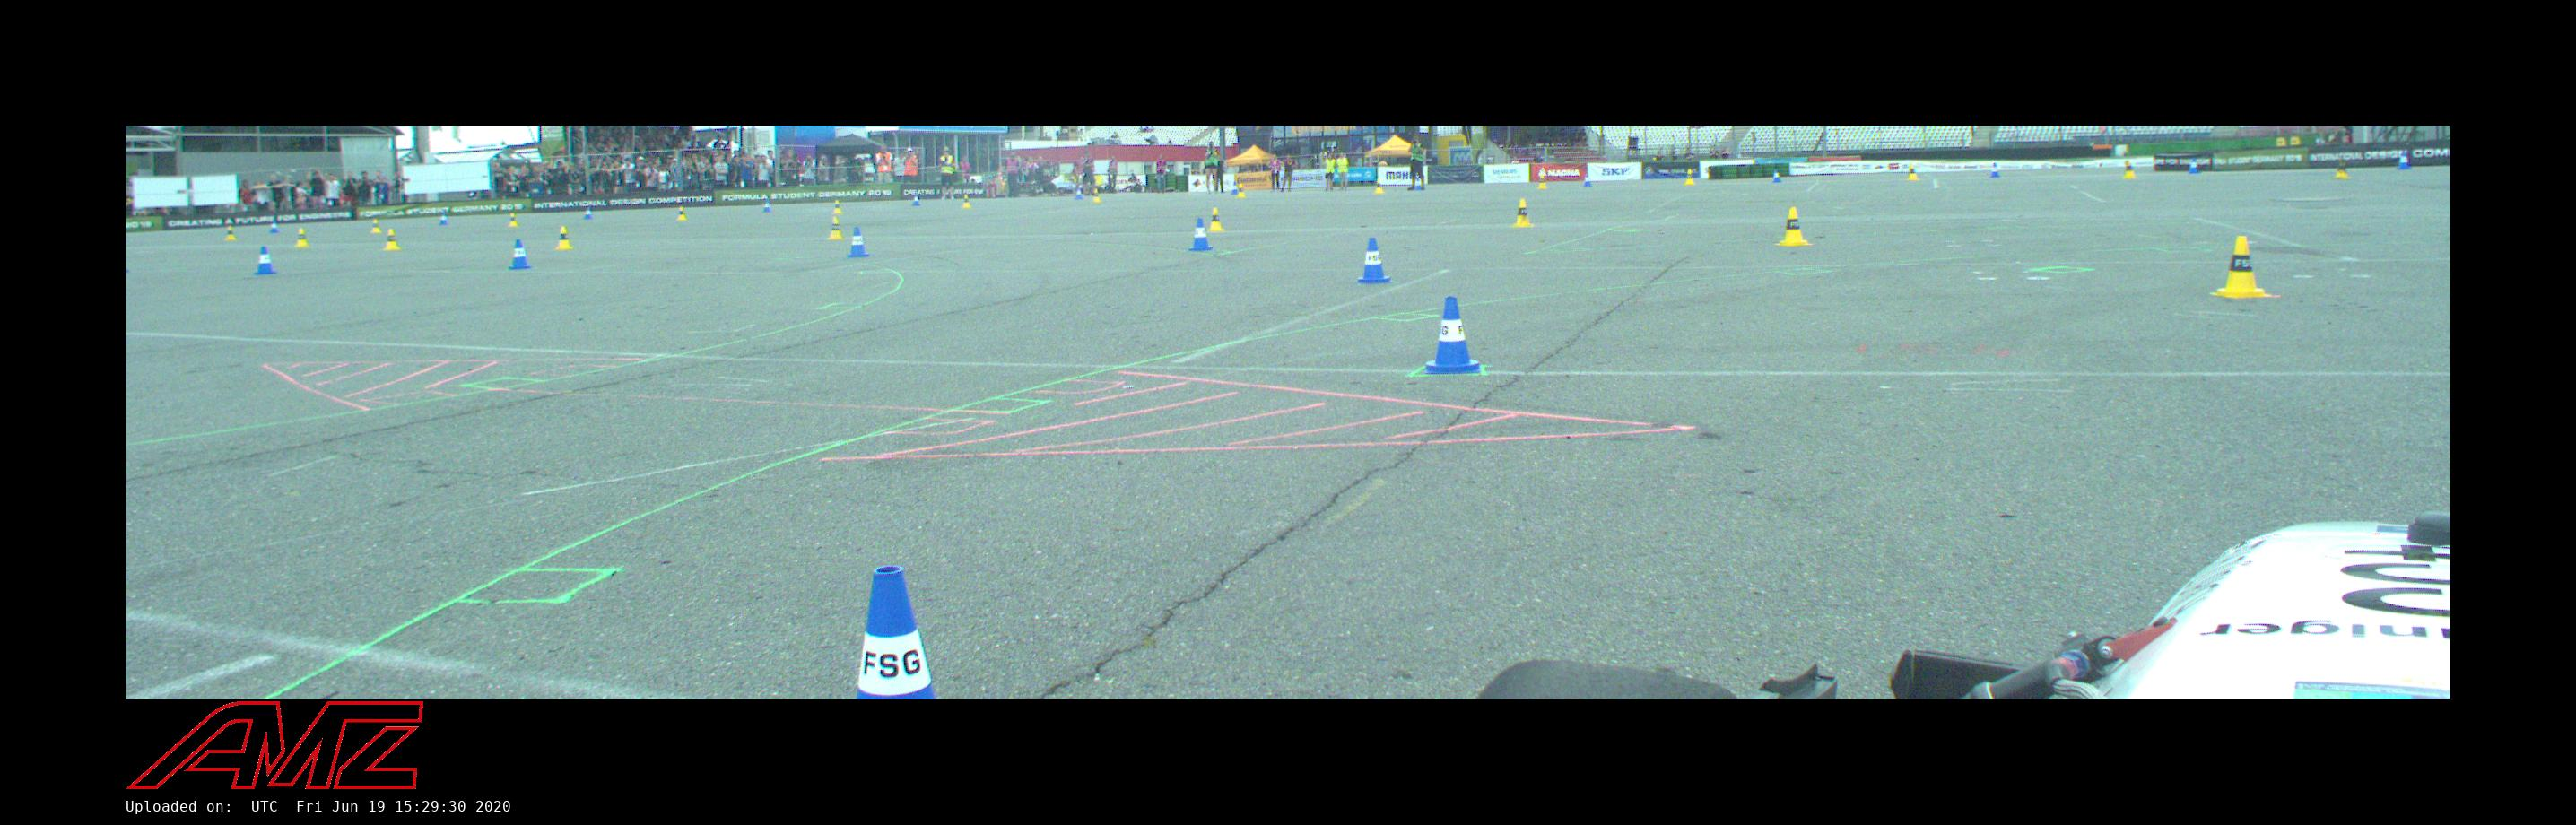blue_cone: (854, 565, 935, 698), (1426, 297, 1482, 375), (1357, 238, 1391, 283), (1188, 219, 1214, 250), (846, 227, 869, 258), (509, 240, 532, 270), (255, 248, 276, 274), (2187, 156, 2200, 174), (2397, 151, 2408, 169), (582, 205, 593, 220), (1990, 163, 2001, 177), (439, 210, 449, 225), (761, 200, 772, 212), (1771, 169, 1781, 182), (269, 219, 278, 233), (912, 194, 922, 205), (1584, 174, 1592, 186), (1232, 182, 1239, 194)
yellow_cone: (2213, 237, 2267, 297), (1779, 209, 1807, 245), (1515, 199, 1534, 227), (828, 217, 846, 240), (555, 227, 573, 250), (1207, 207, 1224, 232), (383, 230, 402, 250), (294, 228, 309, 247), (2334, 159, 2348, 179), (2123, 161, 2136, 179), (223, 224, 237, 240), (508, 212, 519, 227), (1536, 174, 1548, 189), (1907, 164, 1919, 179), (370, 219, 381, 232), (1091, 189, 1102, 202), (677, 205, 687, 220), (961, 194, 971, 209), (1373, 179, 1383, 194), (833, 200, 843, 214), (1684, 171, 1694, 184), (1237, 184, 1245, 199), (1074, 187, 1083, 200)
